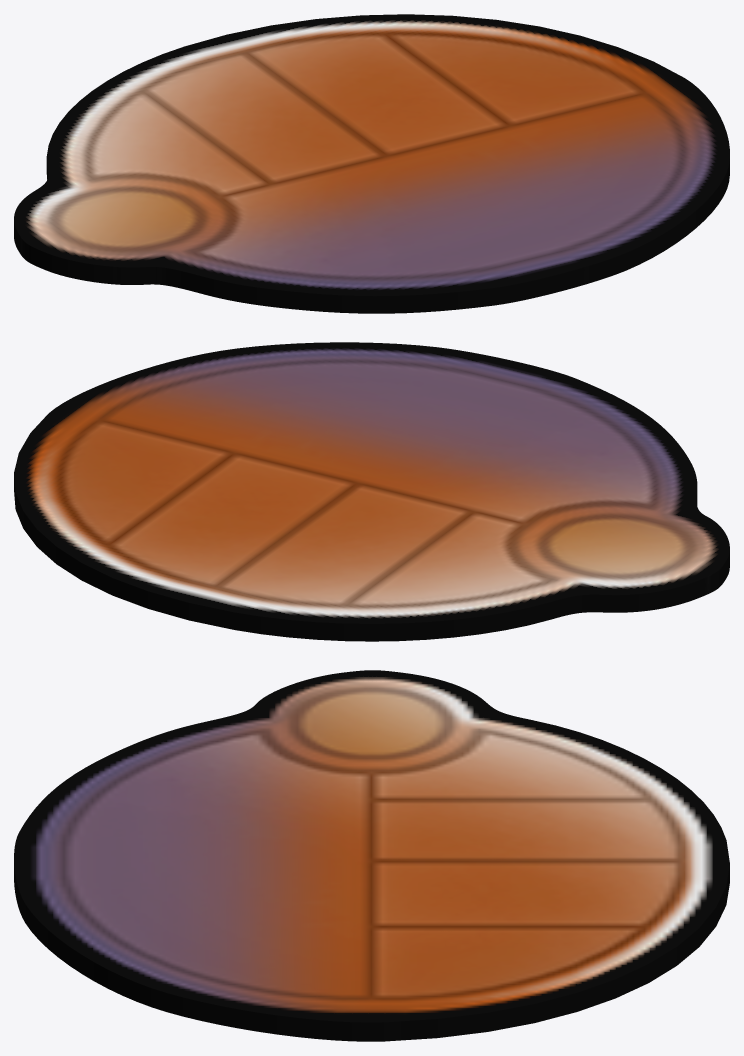
3 views of the same model, one above another, from view 1: azimuth 30°, elevation 25°; view 2: azimuth 150°, elevation 25°; view 3: azimuth 270°, elevation 25° (orthographic). The views are drawn at different scales.
Visible parts, largest first — view 1: path24; view 2: path24; view 3: path24.
Part boxes in pixels (box(x1,y1,x2,y2)): path24: box(14, 14, 729, 313); path24: box(14, 342, 729, 641); path24: box(14, 670, 729, 1041).
Bounding box in the file's own units: 98.89 × 2.5 × 84.9.
Materials: 1 (1 with a texture image).
